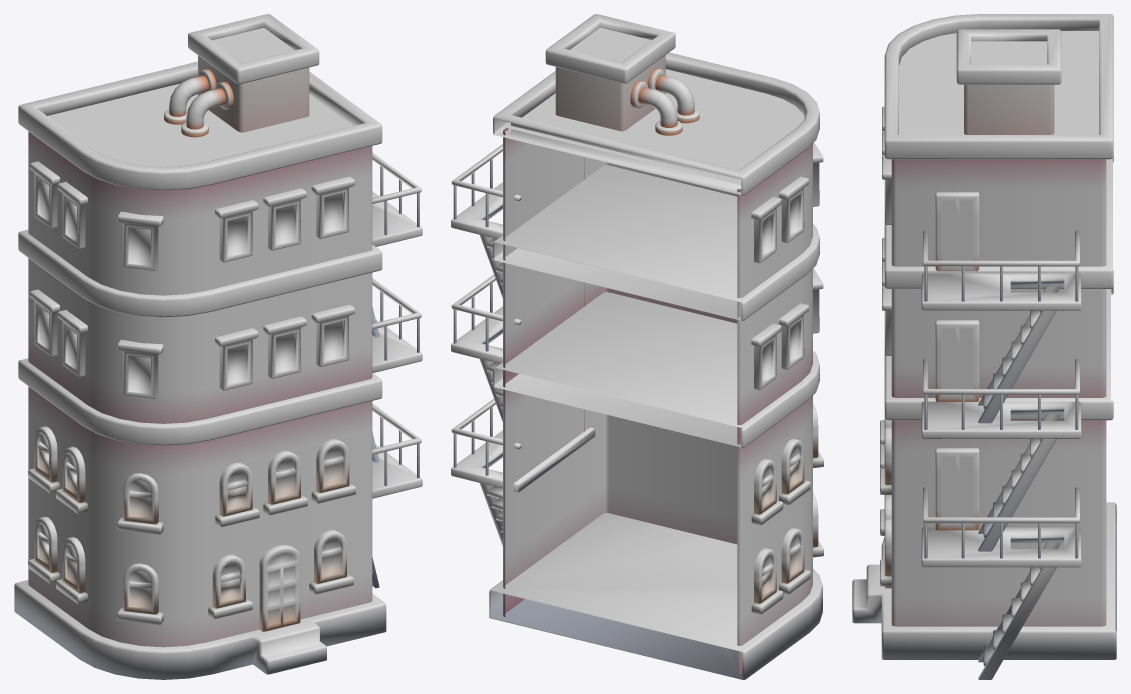
The model's file is Building_094.fbx.
3 renders of one model, left to right at view 1: azimuth 30°, elevation 25°; view 2: azimuth 150°, elevation 25°; view 3: azimuth 270°, elevation 25°, orthographic. The views are drawn at different scales.
Visible parts, largest first — view 1: Building_094; view 2: Building_094; view 3: Building_094.
Part boxes in pixels (x1,y1,x2,y2): Building_094: (14, 14, 422, 679); Building_094: (451, 14, 823, 679); Building_094: (852, 14, 1116, 679).
Size of the model in its own units: 1045 by 1775 by 738.
